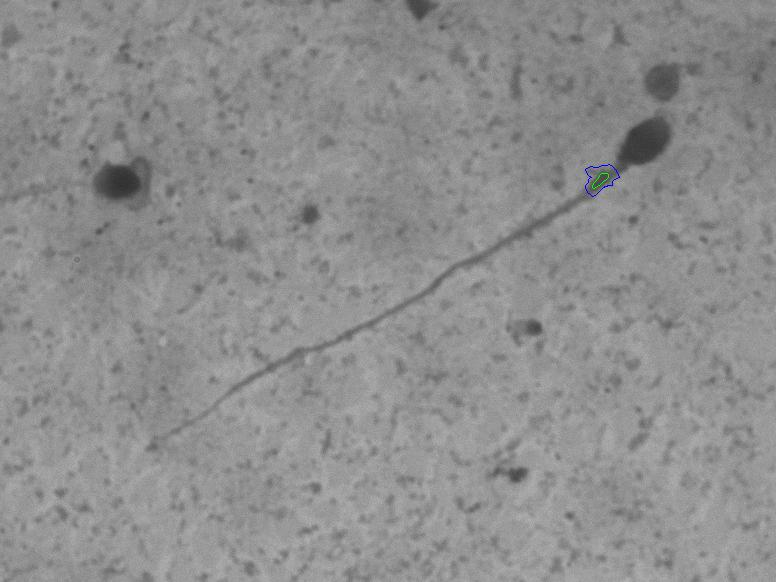Abnormal: (74, 121, 167, 266)
Normal: (190, 108, 697, 449)
